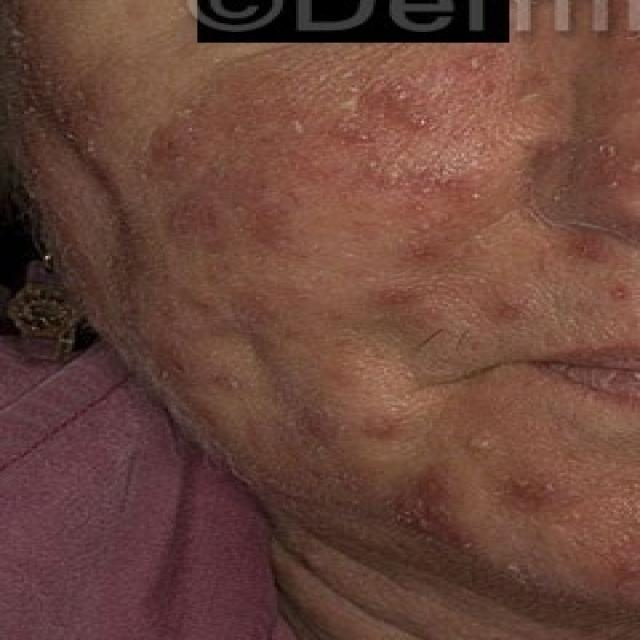Rosacea: (141, 100, 539, 280)
